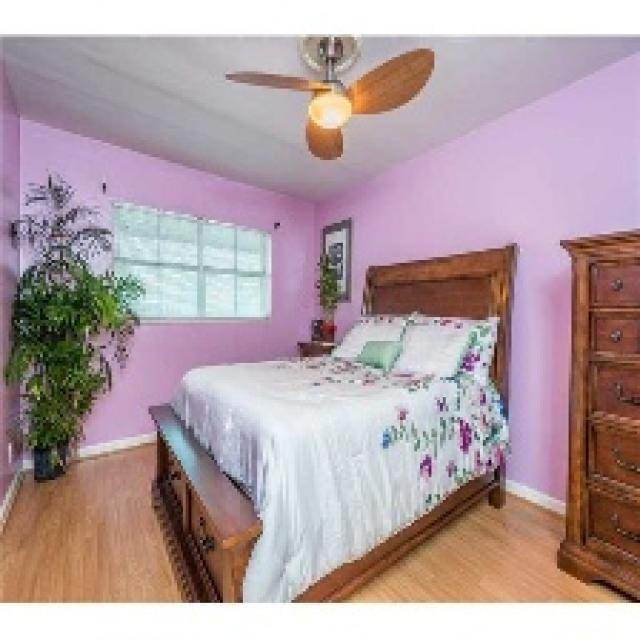Bed: (146, 240, 517, 600)
